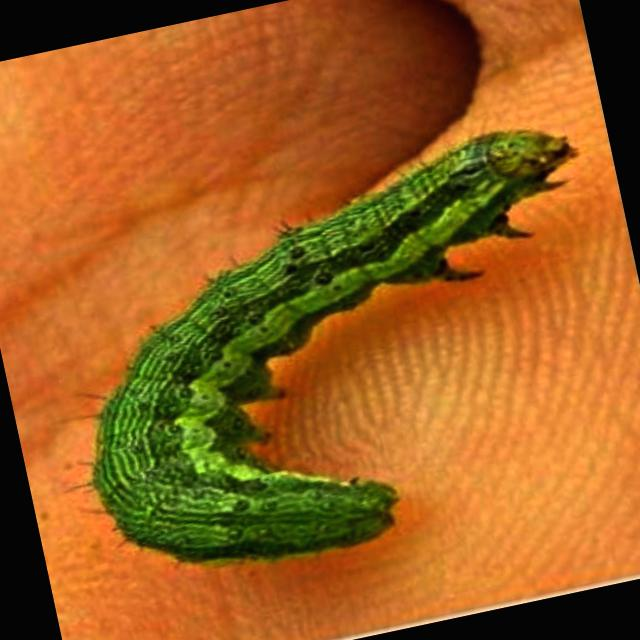Beet armyworm: (0, 51, 640, 637)
